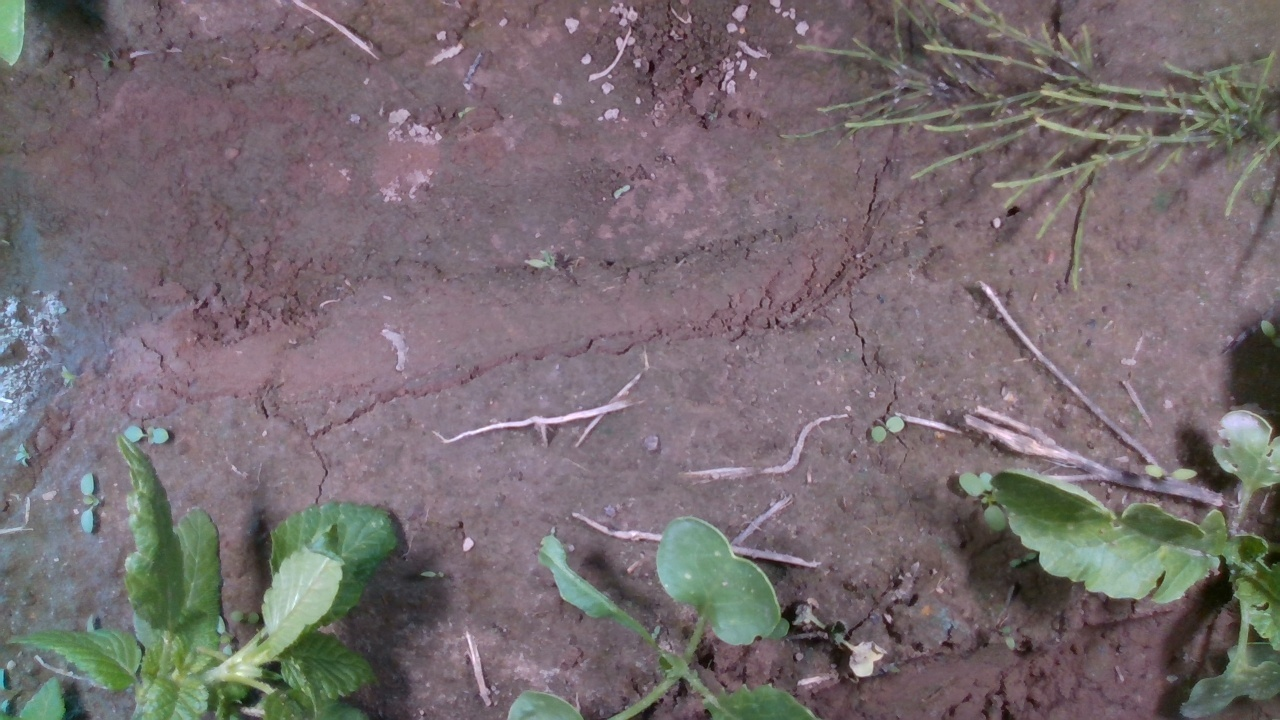weed: (78, 469, 98, 536), (868, 415, 905, 443), (1143, 463, 1200, 481), (15, 441, 32, 469), (420, 568, 446, 578)
